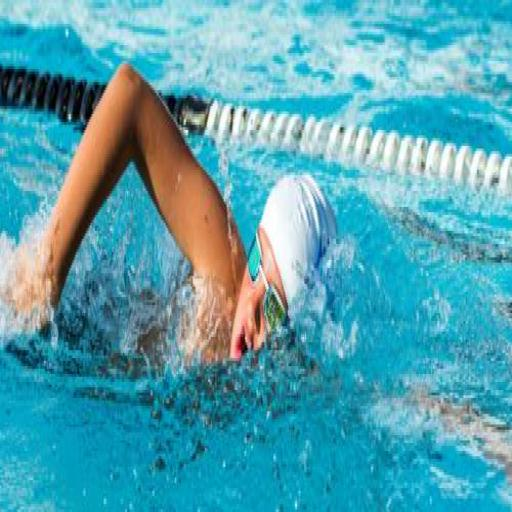swimming: (0, 58, 339, 382)
